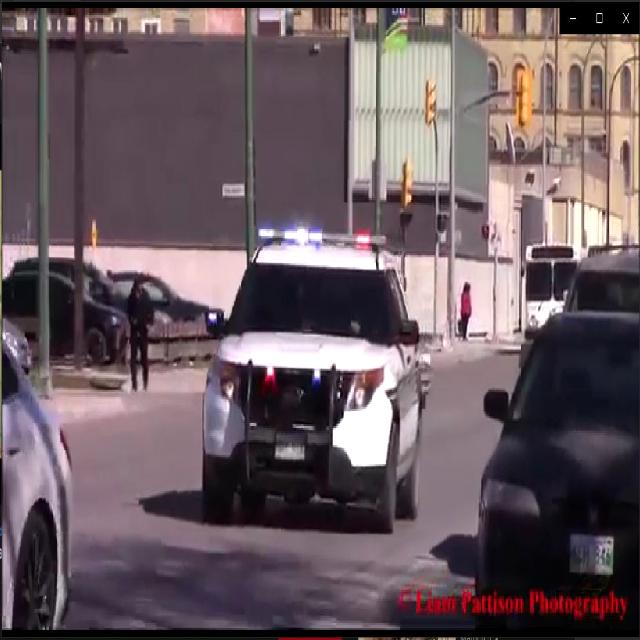emergency: (199, 216, 428, 539)
